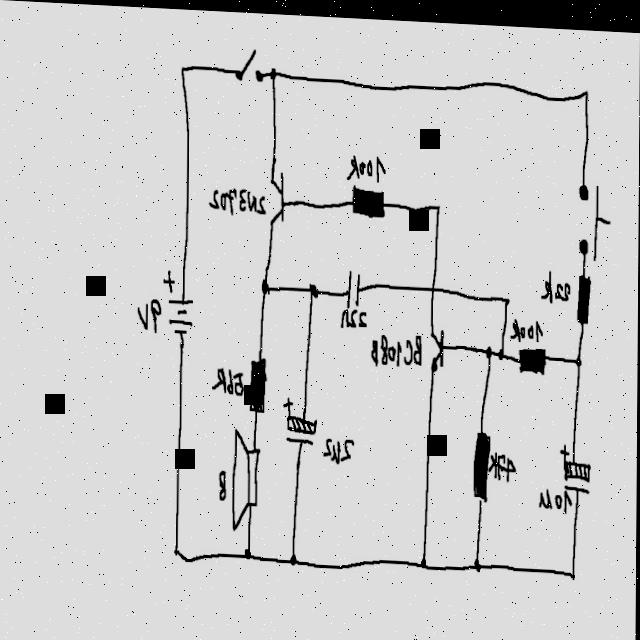capacitor: (284, 393, 319, 447), (560, 437, 594, 490), (346, 265, 363, 307)
crossover: (429, 276, 438, 292)
junction: (308, 277, 320, 298), (261, 275, 272, 295), (178, 59, 189, 78), (244, 542, 254, 560), (269, 62, 278, 80), (173, 541, 182, 559), (485, 338, 494, 355), (420, 552, 430, 567), (291, 548, 300, 564), (582, 80, 591, 96), (575, 348, 584, 363), (570, 562, 579, 577), (498, 341, 506, 357), (503, 289, 512, 302), (475, 553, 482, 568), (435, 198, 442, 211)
resistor: (472, 422, 493, 499), (351, 179, 388, 217), (248, 352, 269, 412), (518, 339, 548, 370), (576, 268, 593, 321)
source: (163, 267, 196, 337)
switch: (578, 174, 613, 259), (236, 42, 263, 83)
text: (371, 327, 423, 366), (208, 182, 267, 216), (347, 148, 389, 181), (323, 430, 357, 463), (138, 294, 163, 336), (542, 264, 572, 299), (212, 364, 245, 395), (489, 443, 517, 478), (539, 481, 574, 508), (510, 311, 545, 338), (340, 305, 368, 327), (218, 466, 228, 499)
transistor: (268, 161, 287, 232), (429, 323, 447, 368)
